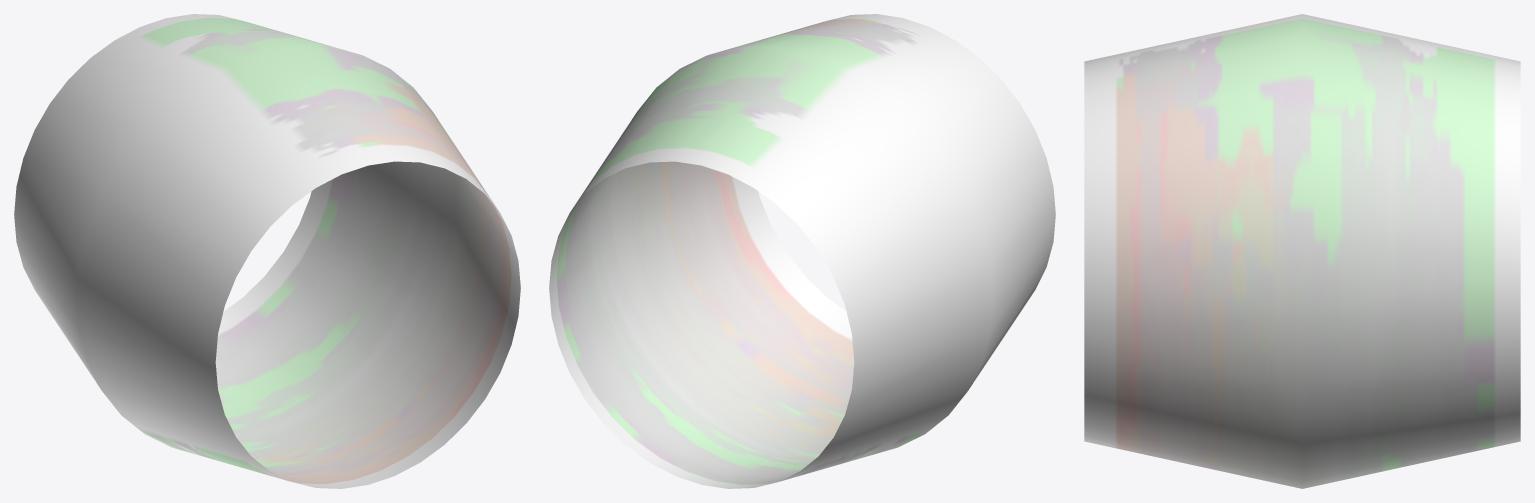
Rendered from Cone001_0_ad0fa893__dawn_2ca9dabf_90d7cb.obj.
3 renders of one model, left to right at view 1: azimuth 30°, elevation 25°; view 2: azimuth 150°, elevation 25°; view 3: azimuth 270°, elevation 25°, orthographic. The views are drawn at different scales.
Size of the model in its own units: 0.9344 by 0.9343 by 0.8551.
Materials: 1 (1 with a texture image).
